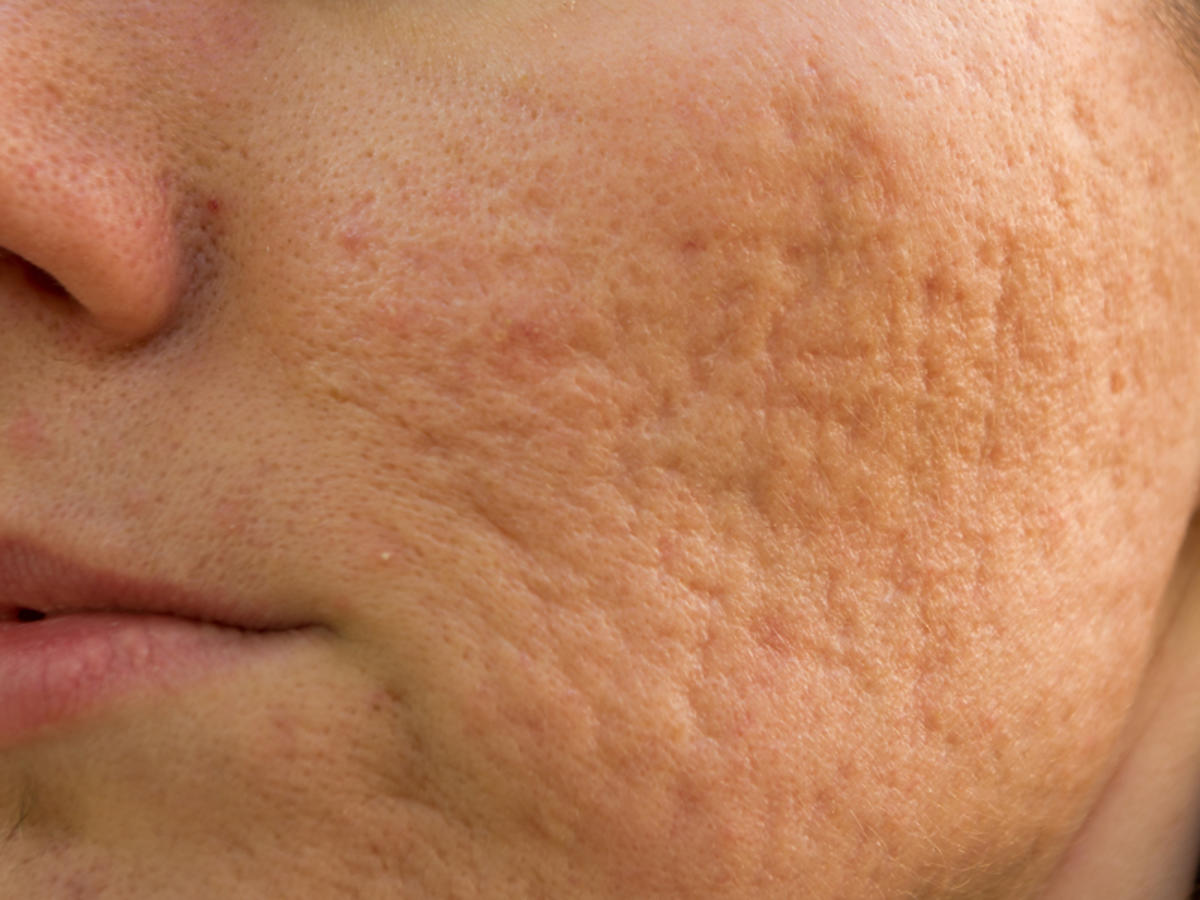jerawat: (284, 75, 1200, 849)
